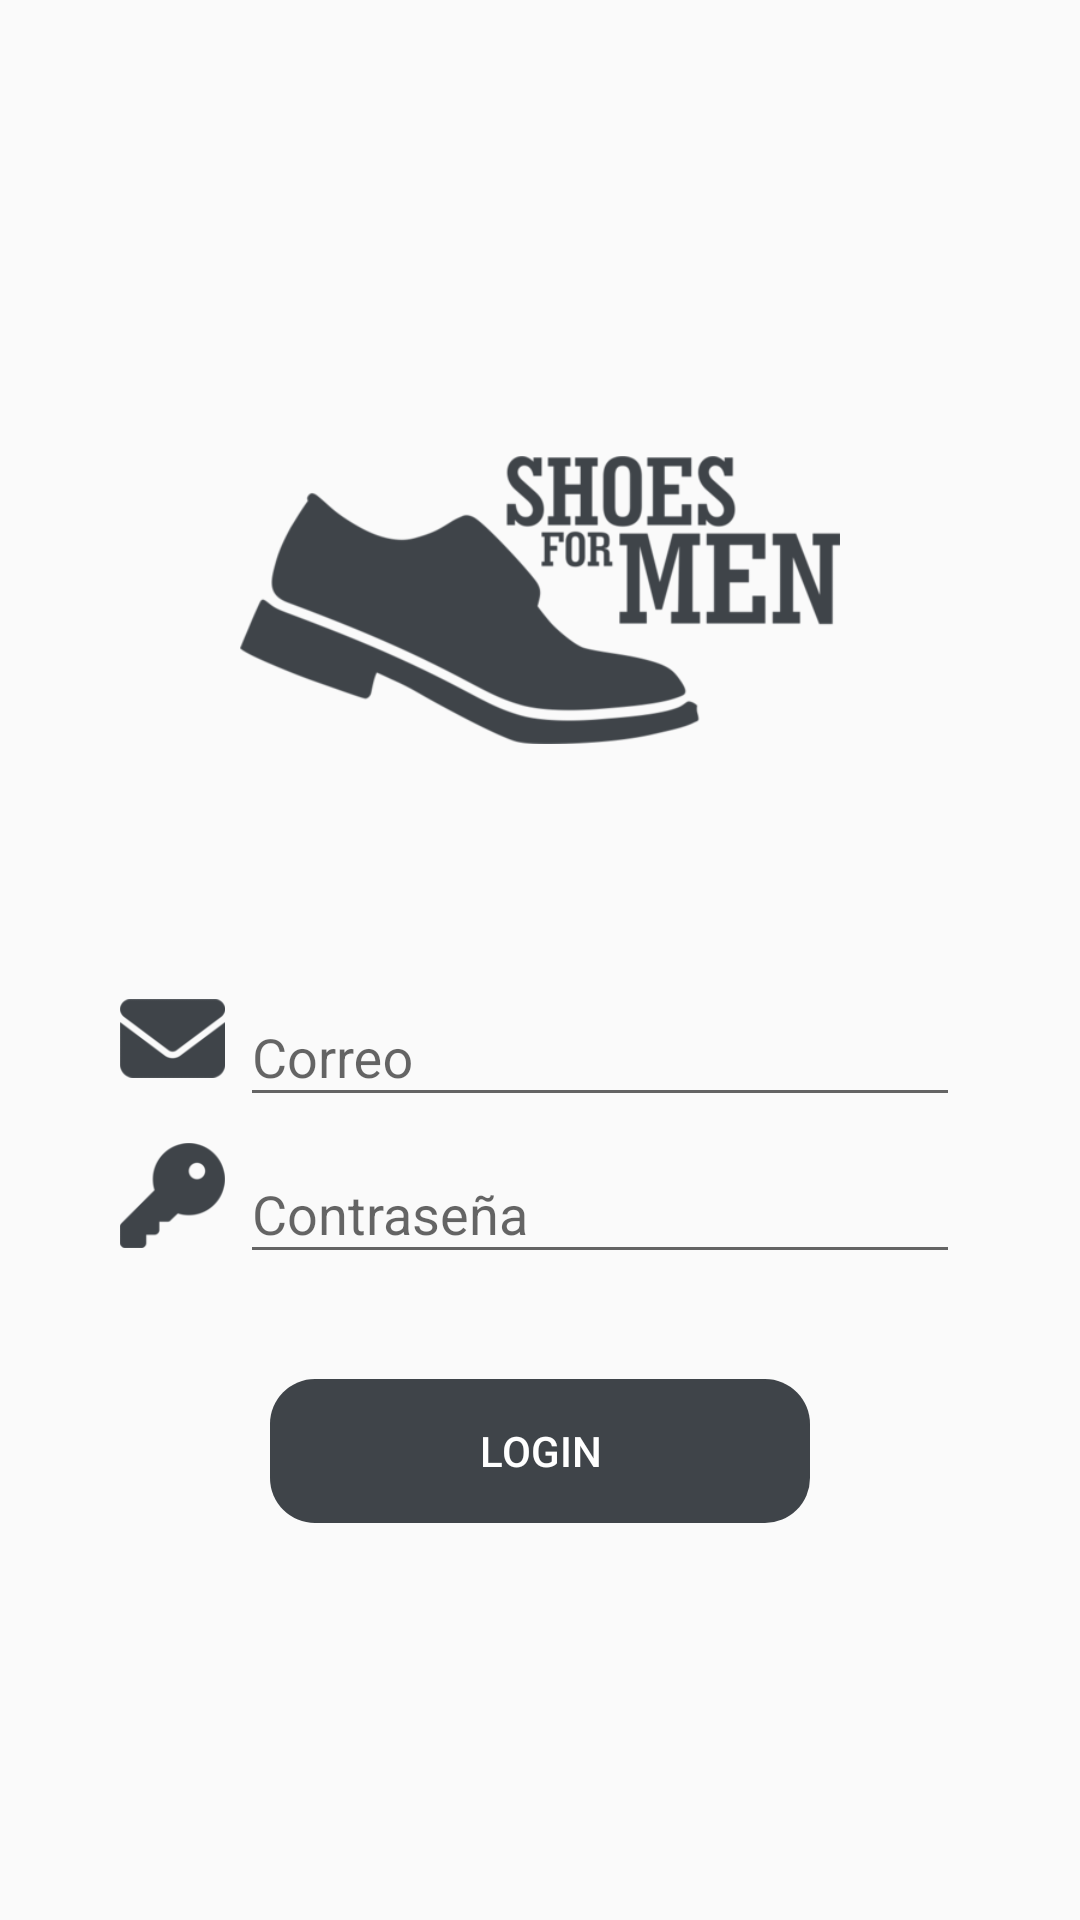

Named icons in this screenshot (1080*1920) and their bounding boxes, (x1, y1, x2, y2):
key: (120, 1143, 225, 1248)
